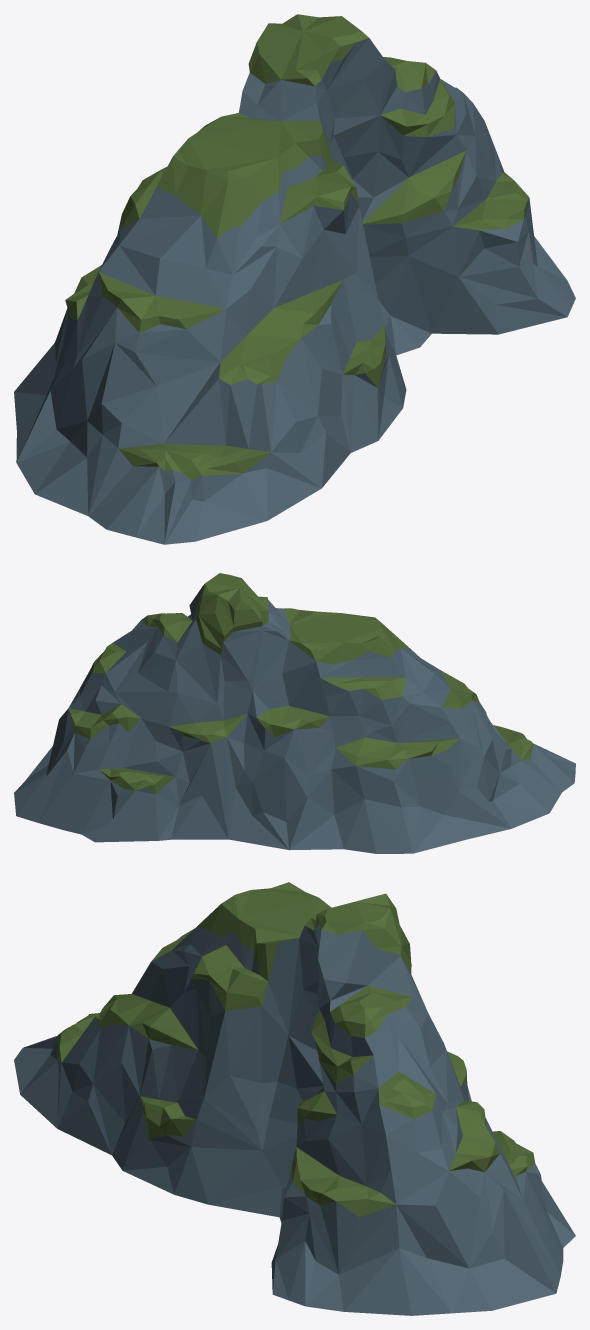
Rendered from Mountain_1 Asia.fbx.
3 renders of one model, top to bottom at view 1: azimuth 30°, elevation 25°; view 2: azimuth 150°, elevation 25°; view 3: azimuth 270°, elevation 25°, orthographic. The views are drawn at different scales.
Parts seen in each view (by area): view 1: Mountain_1; view 2: Mountain_1; view 3: Mountain_1.
Boxes of the visible parts, x1,y1,x2,y2 form: Mountain_1: (14,14,575,544); Mountain_1: (14,573,575,853); Mountain_1: (14,882,575,1315).
Size of the model in its own units: 31.99 by 15.02 by 26.28.
